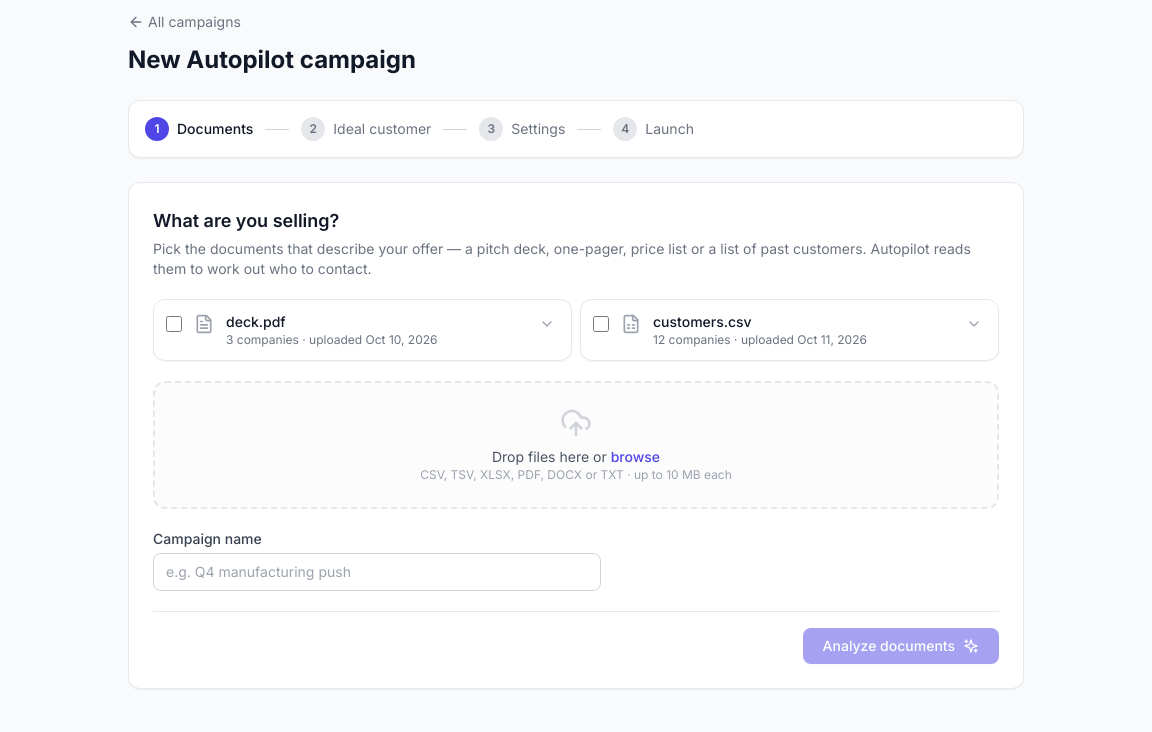
it: CampaignNew wizard › needs at least one document before analysing
Check: the checkbox named "Use deck.pdf" is shown, box [166,316,182,332]
Check: the button "Analyze documents" is disabled, box [803,628,999,664]
What coordinates should you click on to do the following:
click the checkbox named "Use customers.csv"
I would click on:
 (601, 324)
Its box is [593,316,609,332].
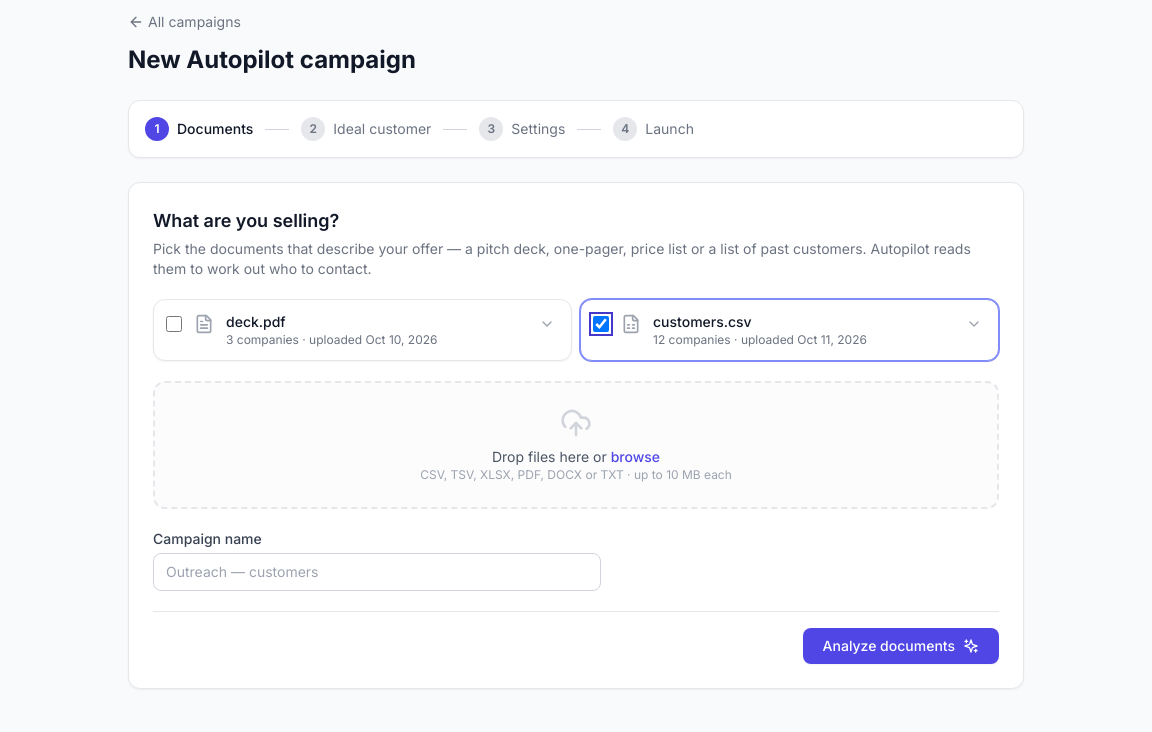
Check: the button "Analyze documents" is enabled, box [803,628,999,664]
